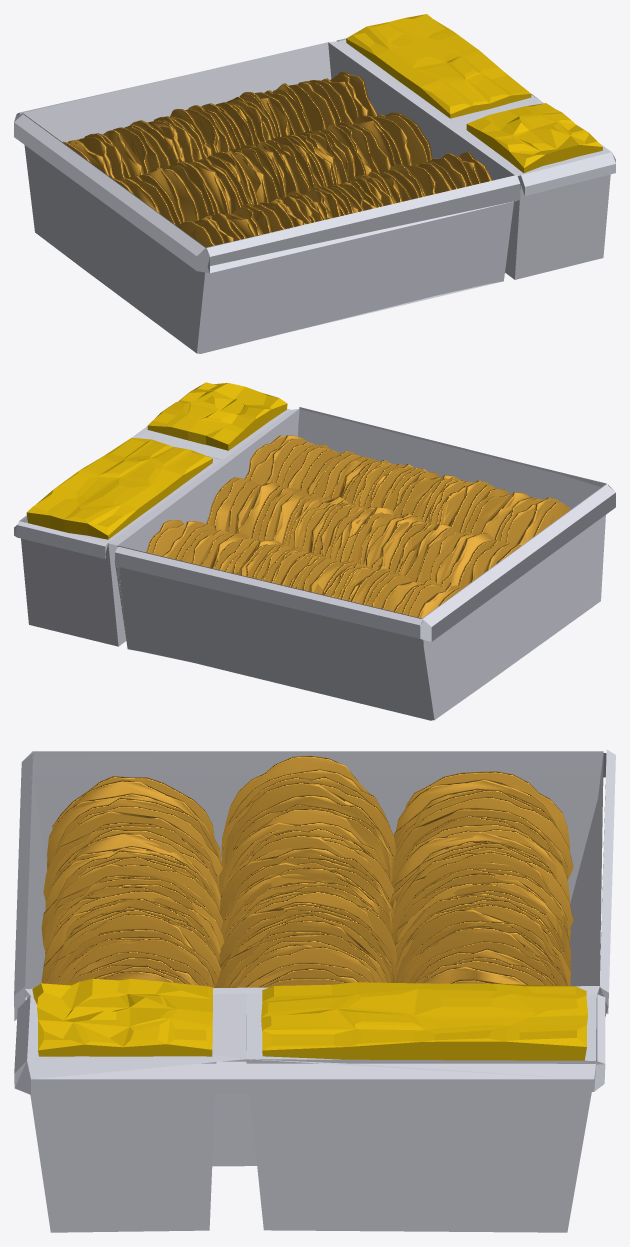
The model's file is NachoGrande.glb.
3 renders of one model, top to bottom at view 1: azimuth 30°, elevation 25°; view 2: azimuth 150°, elevation 25°; view 3: azimuth 270°, elevation 25°, orthographic. The views are drawn at different scales.
Visible parts, largest first — view 1: Cube, Cylinder.001, Cylinder.003, Cube.001, Cylinder.002, Cube.002; view 2: Cube, Cylinder.001, Cylinder.002, Cylinder.003, Cube.001, Cube.002; view 3: Cube, Cylinder.001, Cylinder.003, Cylinder.002, Cube.001, Cube.002.
Boxes of the visible parts, left/top/right/bottom form: Cube: left=14, top=38, right=615, bottom=353; Cylinder.001: left=112, top=112, right=432, bottom=225; Cylinder.003: left=62, top=72, right=377, bottom=179; Cube.001: left=346, top=14, right=531, bottom=118; Cylinder.002: left=176, top=152, right=492, bottom=247; Cube.002: left=466, top=103, right=602, bottom=173; Cube: left=14, top=407, right=615, bottom=720; Cylinder.001: left=206, top=477, right=521, bottom=588; Cylinder.002: left=244, top=435, right=570, bottom=545; Cylinder.003: left=146, top=520, right=462, bottom=618; Cube.001: left=26, top=437, right=212, bottom=539; Cube.002: left=147, top=382, right=287, bottom=450; Cube: left=14, top=749, right=615, bottom=1232; Cylinder.001: left=216, top=756, right=397, bottom=987; Cylinder.003: left=390, top=771, right=573, bottom=986; Cylinder.002: left=41, top=776, right=224, bottom=987; Cube.001: left=261, top=982, right=587, bottom=1060; Cube.002: left=32, top=978, right=213, bottom=1056.
Size of the model in its own units: 7.92 by 2.3 by 6.35.
